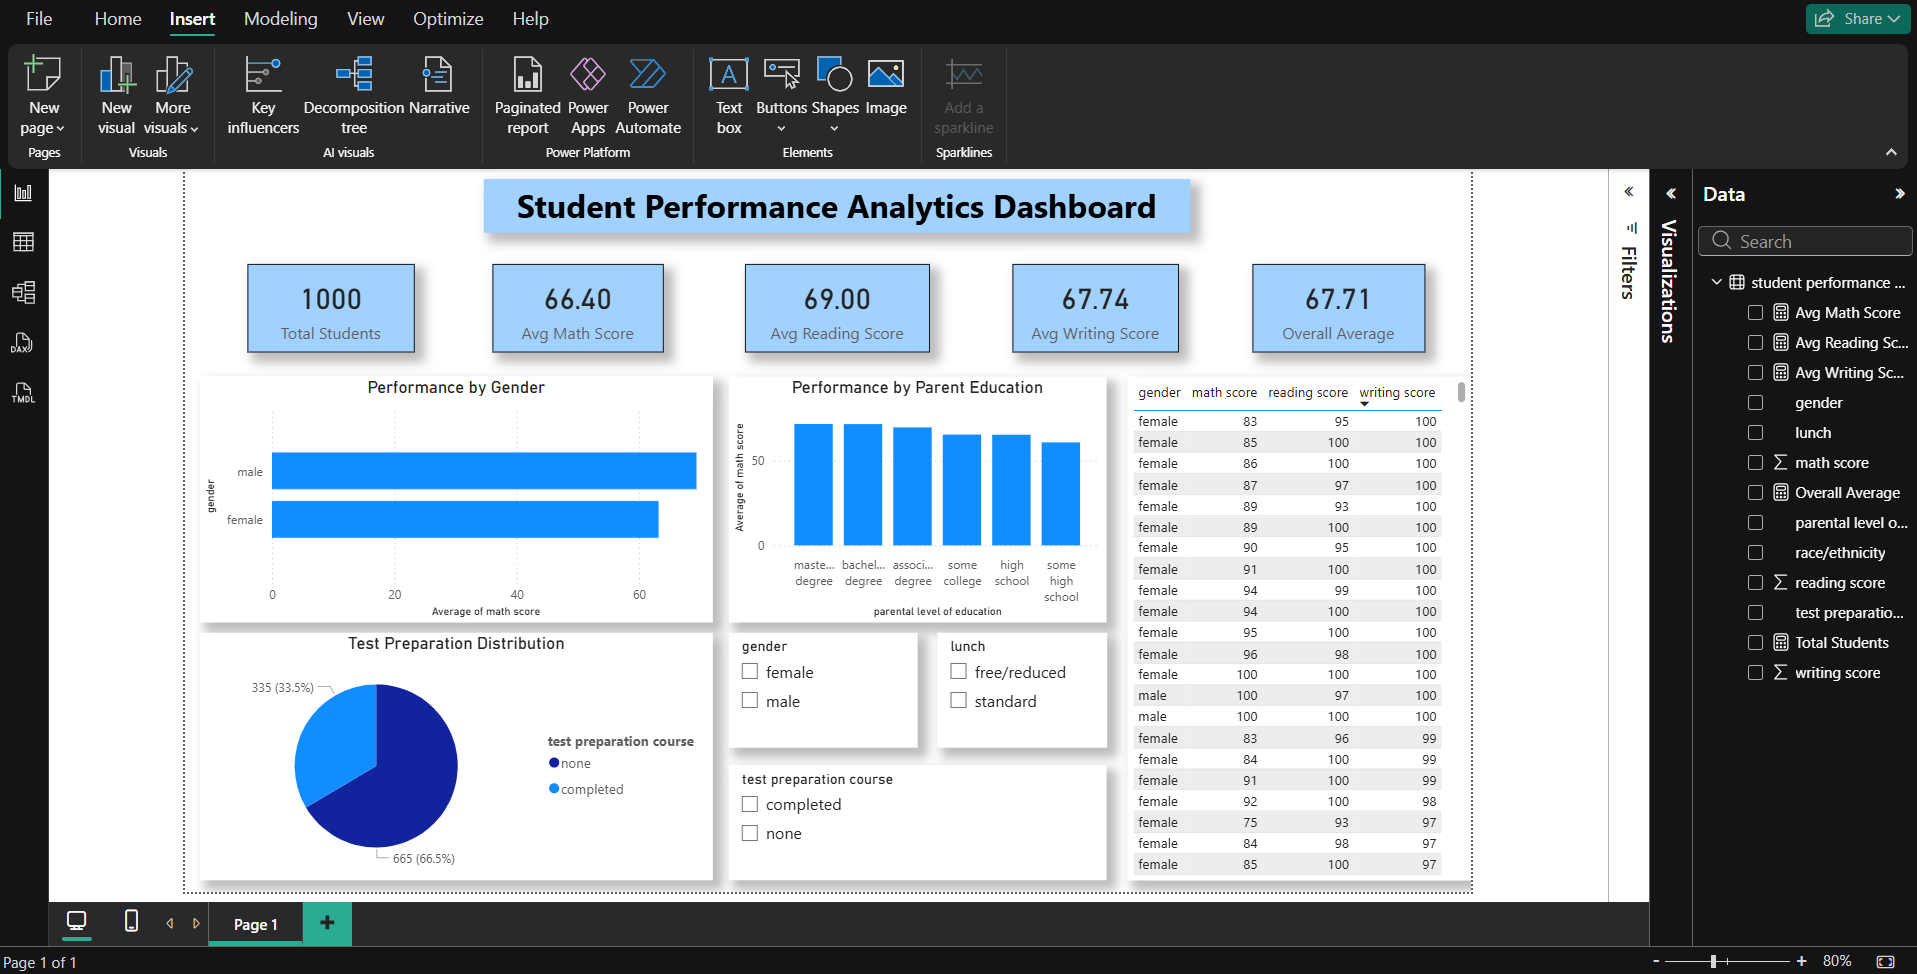

The page's visual inventory and layout, read from the dashboard file:
{"tool":"powerbi","page":{"name":"Page 1","canvas":[1280,720],"ordinal":0},"visuals":[{"type":"card","fields":{"Values":["student performance data.Avg Math Score"]},"box":[306,94.5,170.4,88.3],"z":1},{"type":"card","fields":{"Values":["student performance data.Avg Reading Score"]},"box":[557.3,94.5,184.1,88.3],"z":2},{"type":"card","fields":{"Values":["student performance data.Avg Writing Score"]},"box":[823.5,94.5,165.4,88.3],"z":3},{"type":"card","fields":{"Values":["student performance data.Overall Average"]},"box":[1062.3,94.5,171.7,88.3],"z":4},{"type":"card","fields":{"Values":["student performance data.Total Students"]},"box":[62.2,94.5,166.7,88.3],"z":5},{"type":"clusteredBarChart","title":"Performance by Gender","fields":{"Y":["Avg(student performance data.math score)"],"Category":["student performance data.gender"]},"box":[14.9,206.5,510,245.1],"z":6},{"type":"pieChart","title":"Test Preparation Distribution","fields":{"Category":["student performance data.test preparation course"],"Y":["CountNonNull(student performance data.gender)"]},"box":[14.9,461.5,510,246.3],"z":7},{"type":"clusteredColumnChart","title":"Performance by Parent Education","fields":{"Category":["student performance data.parental level of education"],"Y":["Avg(student performance data.math score)"]},"box":[541.1,206.5,375.7,245.1],"z":8},{"type":"slicer","fields":{"Values":["student performance data.gender"]},"box":[541.1,461.5,187.8,114.4],"z":9},{"type":"slicer","fields":{"Values":["student performance data.lunch"]},"box":[748.9,461.5,169.2,114.4],"z":10},{"type":"slicer","fields":{"Values":["student performance data.test preparation course"]},"box":[541.1,593.4,375.7,114.4],"z":11},{"type":"tableEx","fields":{"Values":["student performance data.gender","student performance data.math score","student performance data.reading score","student performance data.writing score"]},"box":[937.9,206.5,342.1,501.3],"z":12},{"type":"textbox","box":[297.3,10,702.8,53.5],"z":14}]}

Visuals, with their boxes on the page's 1280x720 design canvas (x1, y1, x2, y2). These are canvas units, not pixel positions in the 1917x974 screenshot, which may show the page scaled, cropped or inside an application window:
card - student performance data.Avg Math Score: [left=306, top=94, right=476, bottom=183]
card - student performance data.Avg Reading Score: [left=557, top=94, right=741, bottom=183]
card - student performance data.Avg Writing Score: [left=824, top=94, right=989, bottom=183]
card - student performance data.Overall Average: [left=1062, top=94, right=1234, bottom=183]
card - student performance data.Total Students: [left=62, top=94, right=229, bottom=183]
"Performance by Gender" clusteredBarChart: [left=15, top=206, right=525, bottom=452]
"Test Preparation Distribution" pieChart: [left=15, top=462, right=525, bottom=708]
"Performance by Parent Education" clusteredColumnChart: [left=541, top=206, right=917, bottom=452]
slicer - student performance data.gender: [left=541, top=462, right=729, bottom=576]
slicer - student performance data.lunch: [left=749, top=462, right=918, bottom=576]
slicer - student performance data.test preparation course: [left=541, top=593, right=917, bottom=708]
tableEx - student performance data.gender x student performance data.math score: [left=938, top=206, right=1280, bottom=708]
textbox: [left=297, top=10, right=1000, bottom=64]
